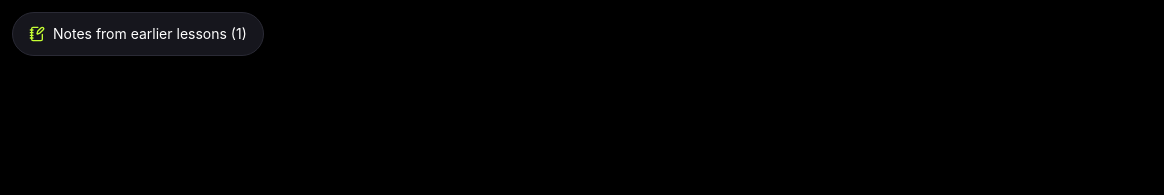
Scenario: EarlierNotes › shows a chip only when earlier notes exist, and expands them
Later steps or results of the test are not shown.
Click the button "Notes from earlier lessons (1)" at (138, 34), box 12,12 -> 264,56
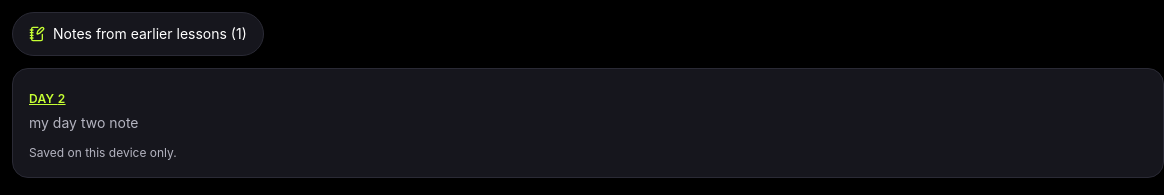
Expected: the text "my day two note" is shown, 29,114 -> 138,131
